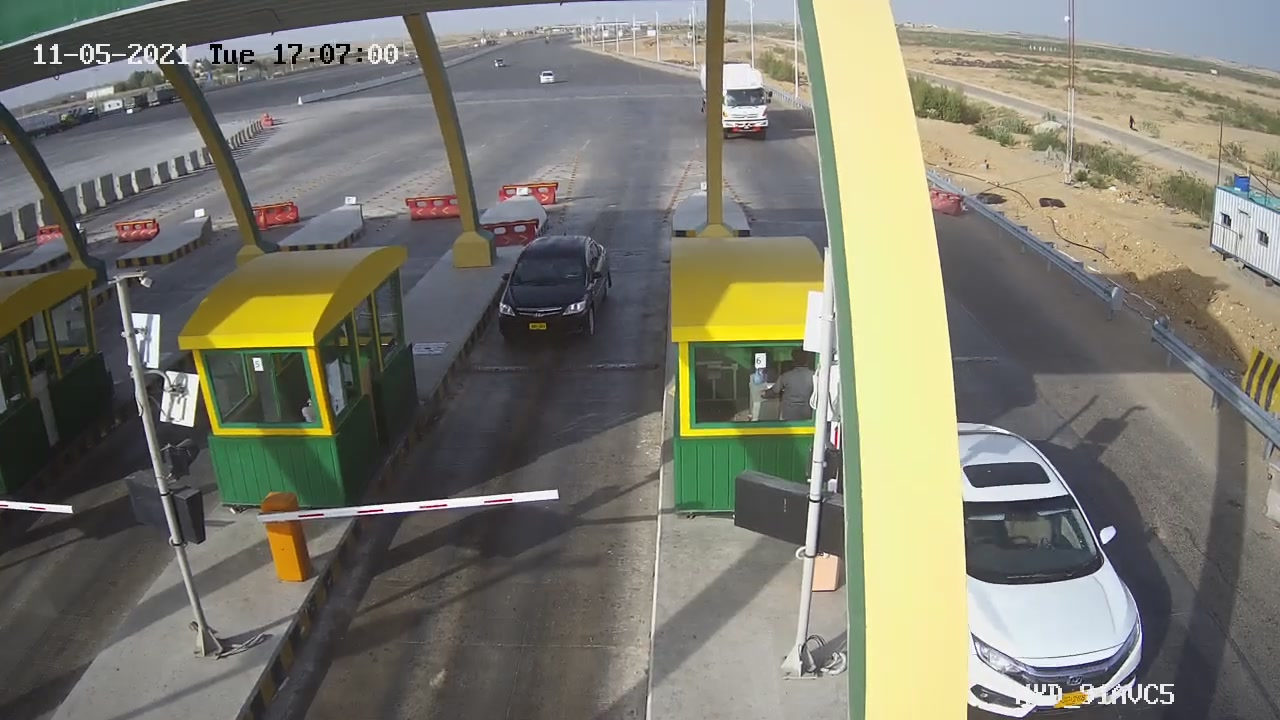F1: (470, 222, 627, 353)
